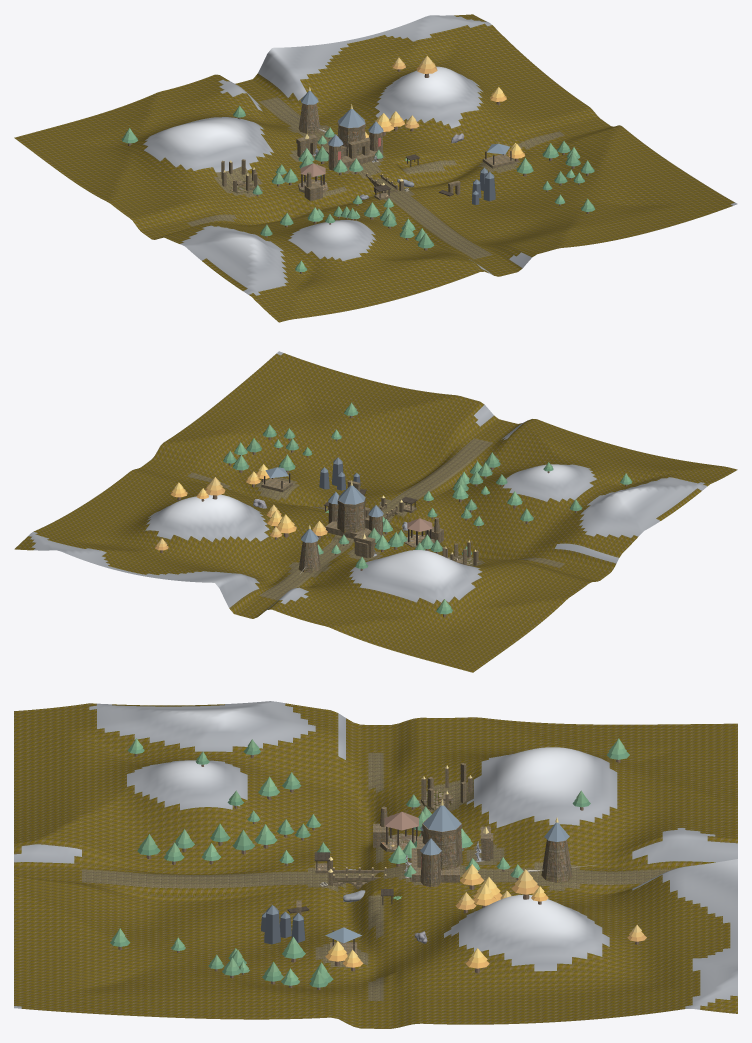
File: frontiers-world.glb
The picture shows the model from 3 angles, top to bottom: view 1: azimuth 30°, elevation 25°; view 2: azimuth 150°, elevation 25°; view 3: azimuth 270°, elevation 25°; orthographic projection. The views are drawn at different scales.
Visible parts, largest first — view 1: vaelmor_Terrain, vaelmor_ImportedCatalogAndFlora, vaelmor_Roads, vaelmor_Masonry; view 2: vaelmor_Terrain, vaelmor_ImportedCatalogAndFlora, vaelmor_Roads, vaelmor_Masonry; view 3: vaelmor_Terrain, vaelmor_ImportedCatalogAndFlora, vaelmor_Roads, vaelmor_Masonry, vaelmor_Timber.
Boxes of the visible parts, left/top/right/bottom form: vaelmor_Terrain: left=14, top=14, right=734, bottom=322; vaelmor_ImportedCatalogAndFlora: left=121, top=15, right=737, bottom=295; vaelmor_Roads: left=187, top=97, right=564, bottom=259; vaelmor_Masonry: left=221, top=103, right=514, bottom=201; vaelmor_Terrain: left=14, top=353, right=737, bottom=672; vaelmor_ImportedCatalogAndFlora: left=28, top=351, right=707, bottom=617; vaelmor_Roads: left=187, top=438, right=564, bottom=600; vaelmor_Masonry: left=261, top=478, right=478, bottom=572; vaelmor_Terrain: left=14, top=703, right=737, bottom=1028; vaelmor_ImportedCatalogAndFlora: left=14, top=701, right=737, bottom=1009; vaelmor_Roads: left=82, top=753, right=669, bottom=1000; vaelmor_Masonry: left=296, top=763, right=572, bottom=954; vaelmor_Timber: left=287, top=826, right=417, bottom=951.
Size of the model in its own units: 224 by 35.1 by 224.
Materials: 5 (4 with a texture image).
